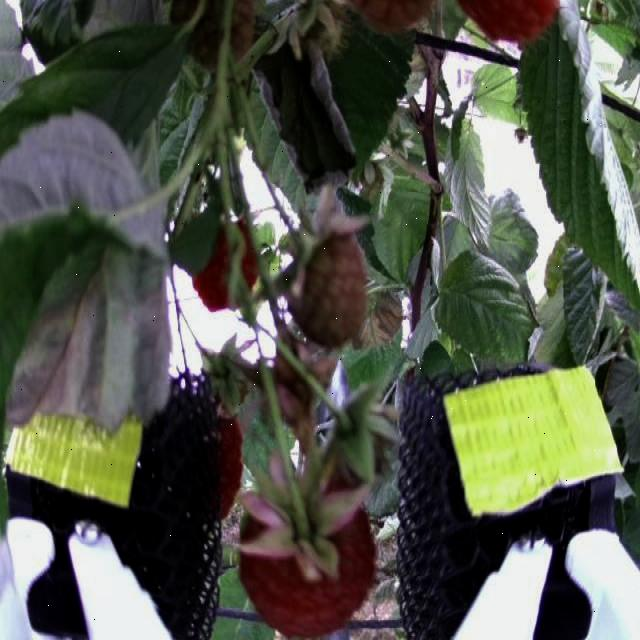Riped berries: (244, 473, 382, 628), (191, 208, 259, 310), (458, 0, 562, 50), (215, 409, 246, 514)
